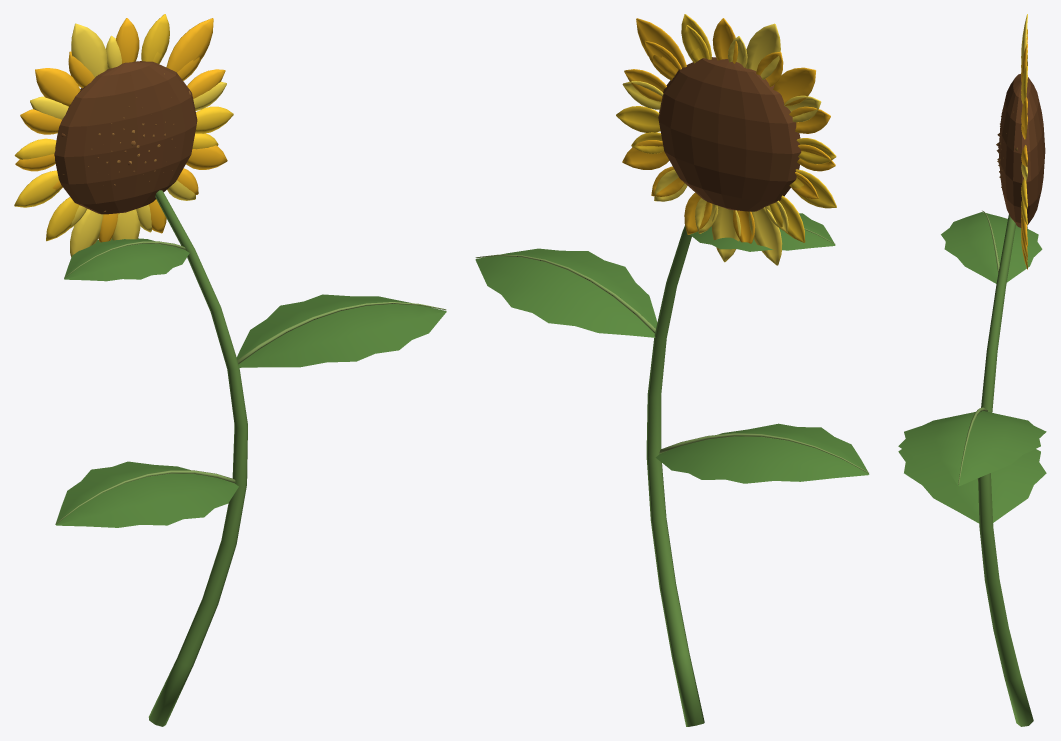
The model's file is sunflower-v2-bloom-3-3.glb.
3 renders of one model, left to right at view 1: azimuth 30°, elevation 25°; view 2: azimuth 150°, elevation 25°; view 3: azimuth 270°, elevation 25°, orthographic. The views are drawn at different scales.
Visible parts, largest first — view 1: Curved tapered stem; view 2: Curved tapered stem; view 3: Curved tapered stem.
Boxes of the visible parts, bbox=[...] form: Curved tapered stem: bbox=[14, 14, 446, 726]; Curved tapered stem: bbox=[475, 14, 869, 726]; Curved tapered stem: bbox=[898, 14, 1046, 726].
Bounding box in the file's own units: 0.4203 × 0.7315 × 0.1462.
